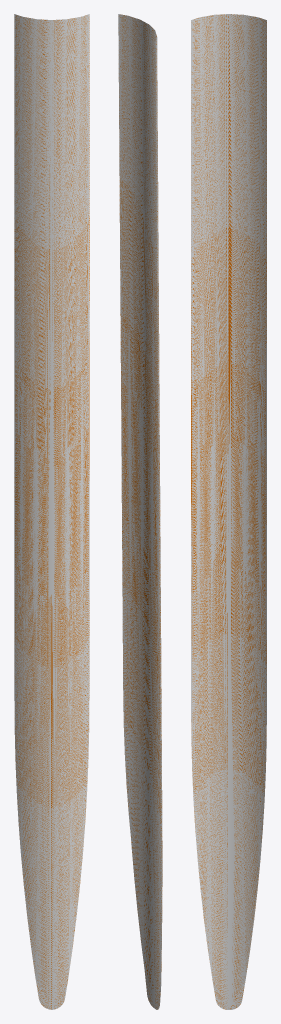
The model's file is original-12.obj.
The picture shows the model from 3 angles, left to right: view 1: azimuth 90°, elevation 25°; view 2: azimuth 210°, elevation 25°; view 3: azimuth 270°, elevation 25°; orthographic projection.
Visible parts, largest first — view 1: 3dw.59a07a01d7c3fdb03c1d9add3a87bd2d/Model/mesh1/mesh1-geometry/; view 2: 3dw.59a07a01d7c3fdb03c1d9add3a87bd2d/Model/mesh1/mesh1-geometry/; view 3: 3dw.59a07a01d7c3fdb03c1d9add3a87bd2d/Model/mesh1/mesh1-geometry/.
Boxes of the visible parts, bbox=[...] form: 3dw.59a07a01d7c3fdb03c1d9add3a87bd2d/Model/mesh1/mesh1-geometry/: bbox=[14, 14, 89, 1009]; 3dw.59a07a01d7c3fdb03c1d9add3a87bd2d/Model/mesh1/mesh1-geometry/: bbox=[118, 14, 162, 1009]; 3dw.59a07a01d7c3fdb03c1d9add3a87bd2d/Model/mesh1/mesh1-geometry/: bbox=[191, 14, 266, 1009].
Bounding box in the file's own units: 0.0167 × 0.8733 × 0.0602.
